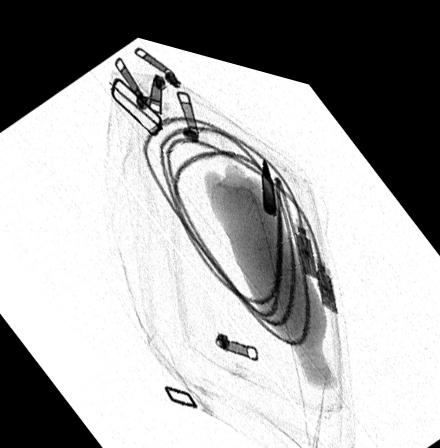Bullet: (260, 139, 277, 200)
